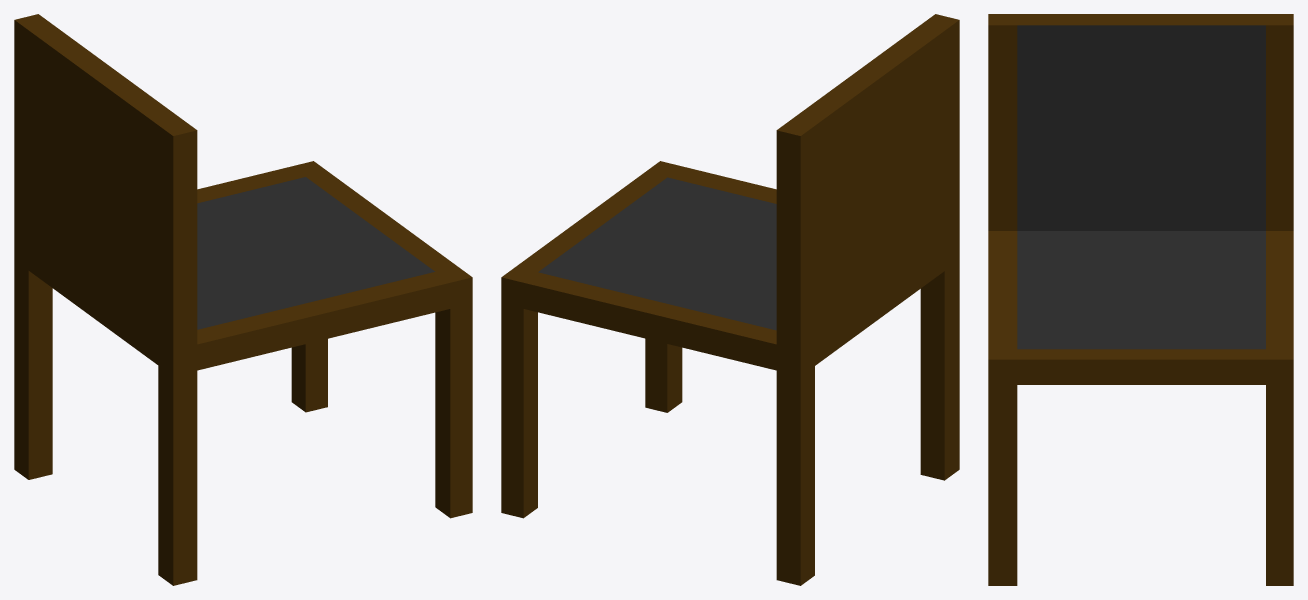
Rendered from Chair.fbx.
3 renders of one model, left to right at view 1: azimuth 30°, elevation 25°; view 2: azimuth 150°, elevation 25°; view 3: azimuth 270°, elevation 25°, orthographic. The views are drawn at different scales.
Visible parts, largest first — view 1: pCube1; view 2: pCube1; view 3: pCube1.
Boxes of the visible parts, x1,y1,x2,y2 form: pCube1: (14, 14, 472, 585); pCube1: (501, 14, 959, 585); pCube1: (988, 14, 1293, 585).
Bounding box in the file's own units: 1.35 × 1.94 × 1.24.
